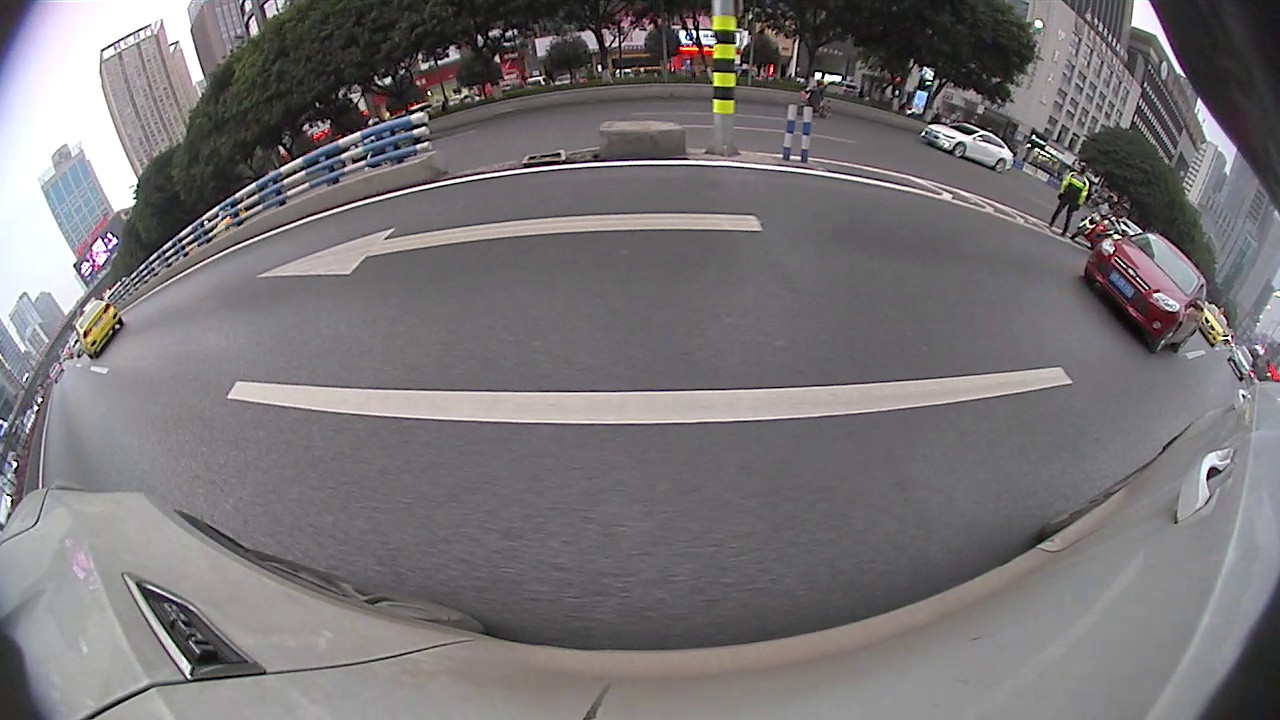car: (1083, 230, 1207, 356), (918, 123, 1016, 174), (73, 299, 126, 360)
front: (954, 142, 965, 156)
person: (1060, 165, 1089, 239)
rear: (996, 160, 1006, 172)
rider: (1070, 201, 1144, 252), (796, 76, 832, 121)
